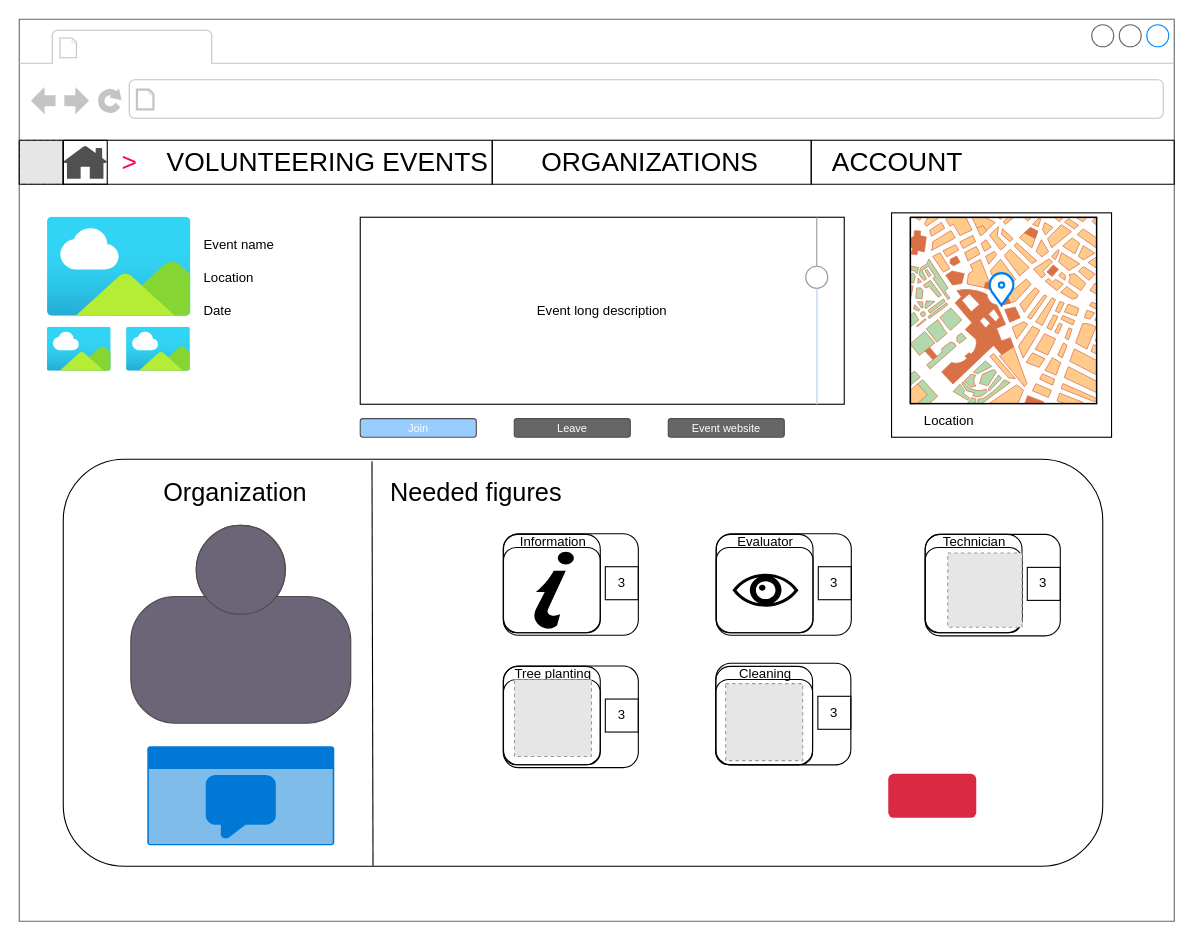
Some shapes in this 1194 by 941 pixel diagram are drawn without their labels. Grey dashed boxes stand in for pictures. Here are the shapes that lost their labels. From the top down, the centre of each, then its label:
the point at 145,46: Joined event
the point at 299,99: https://www.vistasmartcity.com/events/?eventid=1
the point at 240,623: Organizer name [Organization] Description of organization objective.
the point at 240,795: Concacts
the point at 932,795: Report problem
